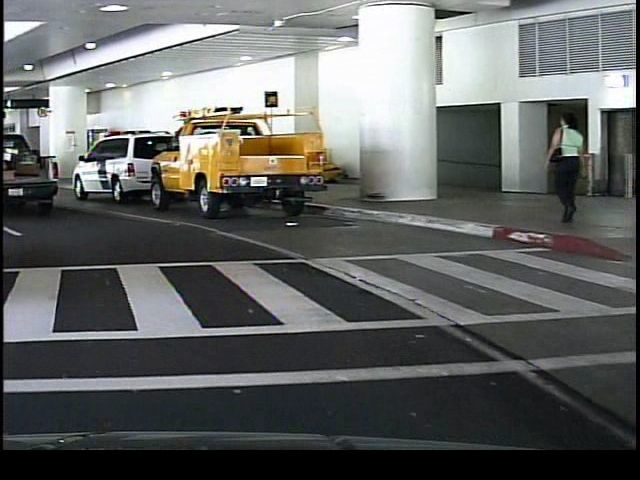person: (538, 111, 588, 229)
